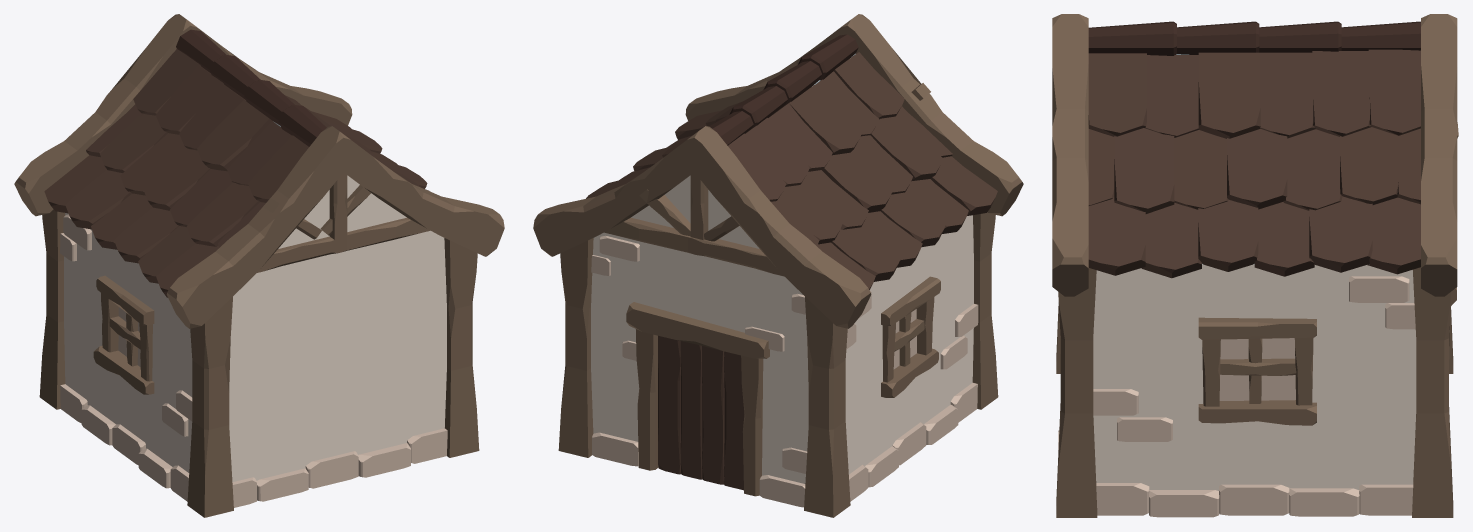
File: Cabin1.fbx
3 renders of one model, left to right at view 1: azimuth 30°, elevation 25°; view 2: azimuth 150°, elevation 25°; view 3: azimuth 270°, elevation 25°, orthographic. The views are drawn at different scales.
Visible parts, largest first — view 1: Plane.002, Plane.015, Plane.039, Plane.040, Plane.036, Plane.021, Plane.031, Plane.023, Plane.029, Plane.034, Plane.027, Plane.033 (+31 smaller); view 2: Plane.002, Plane.015, Plane.039, Plane.139, Plane.046, Plane.040, Plane.042, Plane.045, Plane.031, Plane.025, Plane.036, Plane.021 (+34 smaller); view 3: Plane.002, Plane.015, Plane.039, Plane.036, Plane.038, Plane.031, Plane.034, Plane.035, Plane.029, Plane.033, Plane.027, Plane.021 (+30 smaller).
Boxes of the visible parts, bbox=[...] form: Plane.002: bbox=[64, 175, 446, 482]; Plane.015: bbox=[14, 14, 504, 328]; Plane.039: bbox=[39, 209, 479, 517]; Plane.040: bbox=[257, 217, 430, 272]; Plane.036: bbox=[197, 100, 330, 171]; Plane.021: bbox=[65, 120, 382, 229]; Plane.031: bbox=[187, 170, 421, 246]; Plane.023: bbox=[114, 158, 427, 263]; Plane.029: bbox=[143, 135, 373, 210]; Plane.034: bbox=[155, 65, 223, 134]; Plane.027: bbox=[100, 100, 321, 172]; Plane.033: bbox=[133, 49, 200, 115]; Plane.002: bbox=[591, 175, 973, 483]; Plane.015: bbox=[533, 14, 1023, 328]; Plane.039: bbox=[558, 212, 998, 517]; Plane.139: bbox=[658, 335, 744, 490]; Plane.046: bbox=[626, 302, 769, 358]; Plane.040: bbox=[604, 217, 784, 276]; Plane.042: bbox=[636, 329, 658, 470]; Plane.045: bbox=[741, 355, 763, 496]; Plane.031: bbox=[705, 103, 942, 181]; Plane.025: bbox=[675, 110, 997, 215]; Plane.036: bbox=[716, 85, 861, 155]; Plane.021: bbox=[586, 176, 901, 281]; Plane.002: bbox=[1093, 264, 1416, 490]; Plane.015: bbox=[1052, 14, 1457, 296]; Plane.039: bbox=[1056, 267, 1453, 517]; Plane.036: bbox=[1198, 52, 1260, 138]; Plane.038: bbox=[1088, 53, 1146, 136]; Plane.031: bbox=[1114, 128, 1174, 213]; Plane.034: bbox=[1312, 51, 1371, 136]; Plane.035: bbox=[1260, 52, 1315, 138]; Plane.029: bbox=[1227, 129, 1287, 209]; Plane.033: bbox=[1368, 49, 1420, 135]; Plane.027: bbox=[1340, 127, 1399, 204]; Plane.021: bbox=[1309, 196, 1372, 272].
Bounding box in the file's own units: 6.21 × 5.56 × 6.38.
